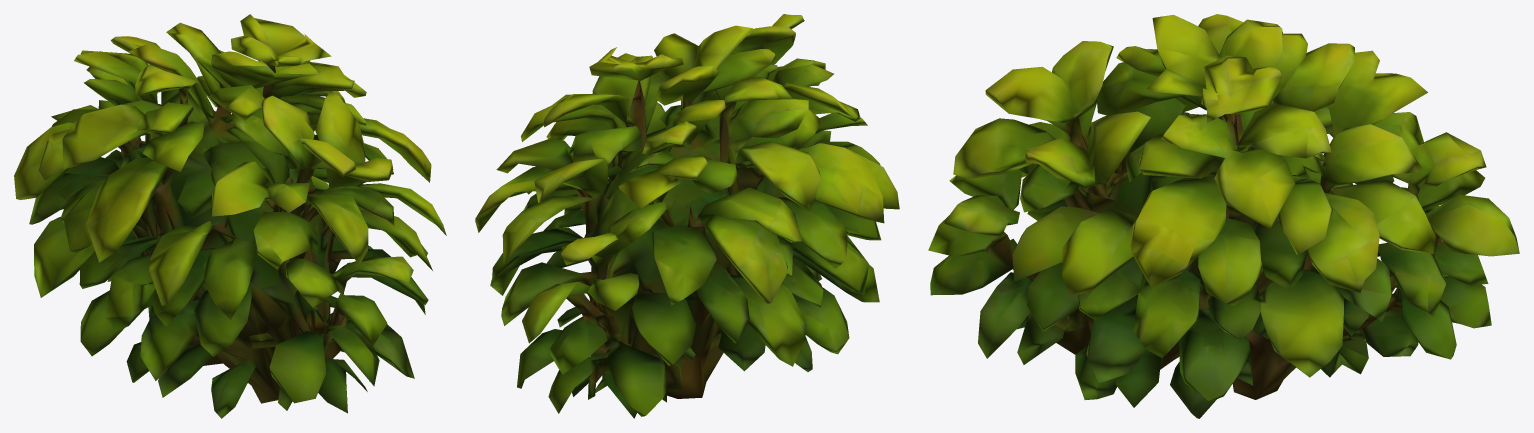
File: sh01-sunleaf-shrub.glb
The picture shows the model from 3 angles, left to right: view 1: azimuth 30°, elevation 25°; view 2: azimuth 150°, elevation 25°; view 3: azimuth 270°, elevation 25°; orthographic projection. The views are drawn at different scales.
Visible parts, largest first — view 1: tripo_node_a92721f3-f882-4def-95d3-ad8bb18debec; view 2: tripo_node_a92721f3-f882-4def-95d3-ad8bb18debec; view 3: tripo_node_a92721f3-f882-4def-95d3-ad8bb18debec.
Boxes of the visible parts, x1,y1,x2,y2 form: tripo_node_a92721f3-f882-4def-95d3-ad8bb18debec: (14, 14, 446, 418); tripo_node_a92721f3-f882-4def-95d3-ad8bb18debec: (475, 14, 899, 418); tripo_node_a92721f3-f882-4def-95d3-ad8bb18debec: (928, 14, 1519, 418).
Bounding box in the file's own units: 0.6628 × 0.6571 × 0.9948.
Materials: 1 (1 with a texture image).
